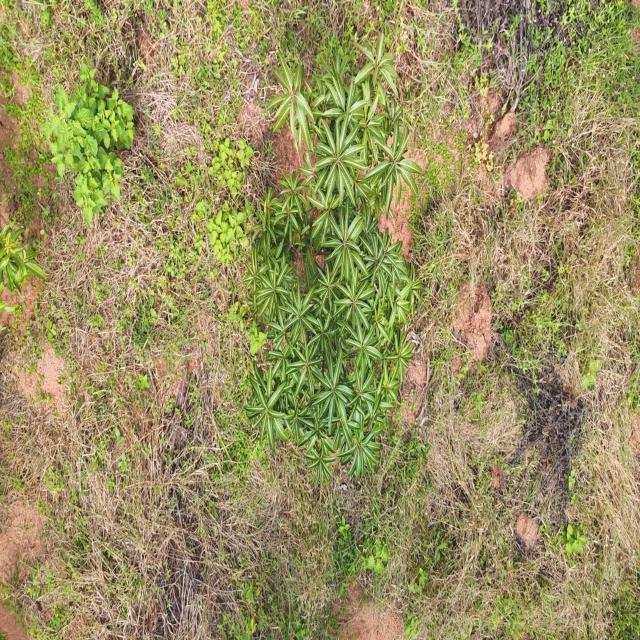mangoTree: (239, 26, 427, 492), (0, 195, 45, 364)
notMangoTree: (40, 61, 138, 229)
